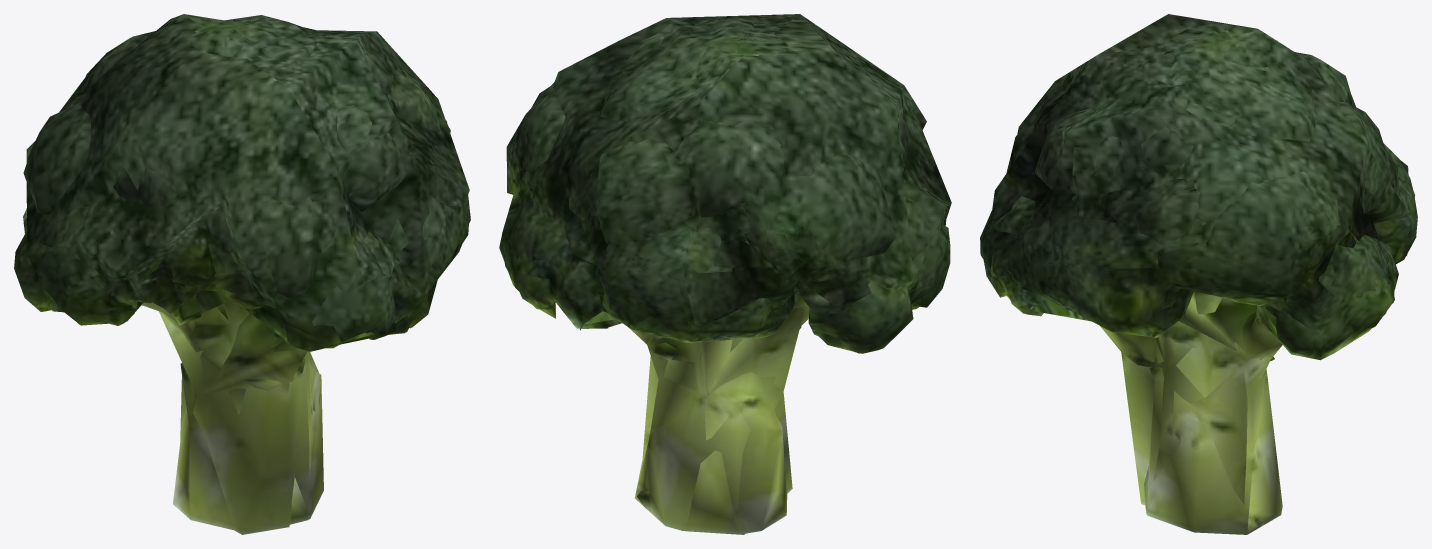
Rendered from imp-vegetables.glb.
3 renders of one model, left to right at view 1: azimuth 30°, elevation 25°; view 2: azimuth 150°, elevation 25°; view 3: azimuth 270°, elevation 25°, orthographic. The views are drawn at different scales.
Visible parts, largest first — view 1: Kerbside_metres_ground_pivot (×3); view 2: Kerbside_metres_ground_pivot (×3); view 3: Kerbside_metres_ground_pivot (×3).
Part boxes in pixels (x1,y1,x2,y2): Kerbside_metres_ground_pivot (×3): (14,14,470,534); Kerbside_metres_ground_pivot (×3): (499,14,951,534); Kerbside_metres_ground_pivot (×3): (980,14,1417,534).
Size of the model in its own units: 0.1734 by 0.2 by 0.1738.
Materials: 1 (1 with a texture image).
